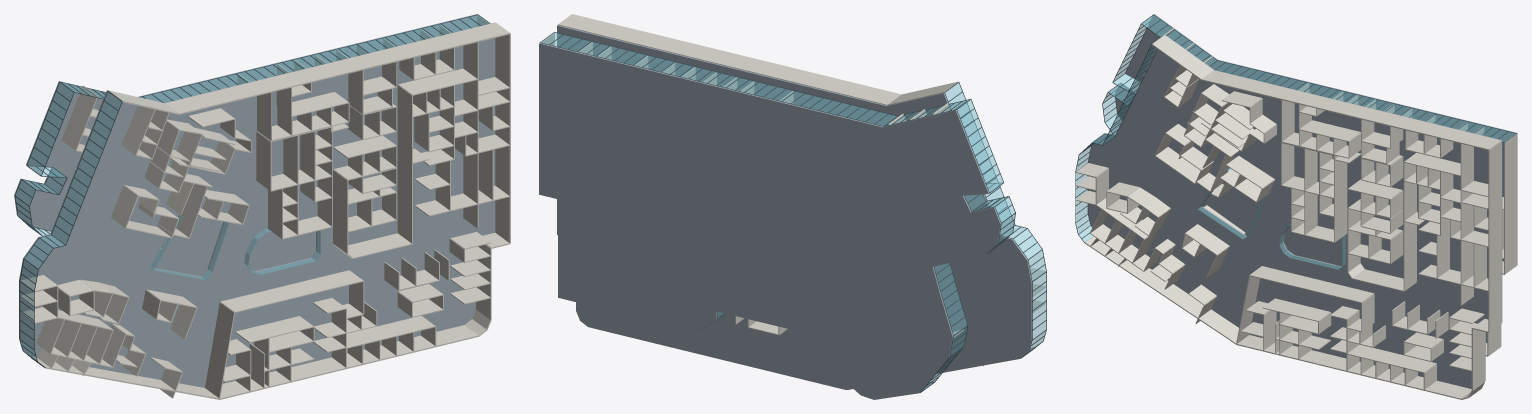
The model's file is Srisawan_L1_L2_Schematic.obj.
3 renders of one model, left to right at view 1: azimuth 30°, elevation 25°; view 2: azimuth 150°, elevation 25°; view 3: azimuth 330°, elevation 25°, orthographic. The views are drawn at different scales.
Visible parts, largest first — view 1: L2_Floor_TWO_VOIDS_1_0_25, L2_Floor_TWO_VOIDS_20_0_63, L2_Facade_01_526, L1_Floor_1_0_1, L1_Facade_01_224, L1_Floor_10_0_11, L2_Floor_TWO_VOIDS_17_0_60, L2_Floor_TWO_VOIDS_16_0_59, L2_Facade_07_532, L2_Facade_02_527, L2_Facade_15_552, L2_Floor_TWO_VOIDS_5_0_31 (+79 smaller); view 2: L1_Floor_1_0_1, L1_Floor_10_0_11, L1_Floor_8_0_9, L1_Floor_6_0_7, L1_Floor_9_0_10, L1_Floor_11_0_12, L2_Floor_TWO_VOIDS_1_0_25, L2_Floor_TWO_VOIDS_20_0_63, L1_Floor_7_0_8, L2_Facade_01_526, L1_Floor_4_2_5, L1_Facade_01_224 (+30 smaller); view 3: L2_Floor_TWO_VOIDS_1_0_25, L2_Floor_TWO_VOIDS_20_0_63, L2_Facade_01_526, L1_Floor_1_0_1, L1_Facade_01_224, L2_Floor_TWO_VOIDS_17_0_60, L2_Facade_02_527, L2_Facade_07_532, L2_Facade_08_533, L1_Floor_10_0_11, L2_Floor_TWO_VOIDS_16_0_59, L1_Facade_02_227 (+55 smaller).
Part boxes in pixels (x1,y1,x2,y2): L2_Floor_TWO_VOIDS_1_0_25: [50, 23, 495, 234]; L2_Floor_TWO_VOIDS_20_0_63: [33, 254, 475, 381]; L2_Facade_01_526: [165, 22, 510, 114]; L1_Floor_1_0_1: [26, 14, 477, 165]; L1_Facade_01_224: [140, 15, 489, 102]; L1_Floor_10_0_11: [151, 229, 315, 275]; L2_Floor_TWO_VOIDS_17_0_60: [19, 223, 495, 348]; L2_Floor_TWO_VOIDS_16_0_59: [19, 214, 495, 338]; L2_Facade_07_532: [220, 325, 478, 399]; L2_Facade_02_527: [495, 33, 510, 243]; L2_Facade_15_552: [52, 92, 121, 244]; L2_Floor_TWO_VOIDS_5_0_31: [19, 234, 166, 280]; L1_Floor_1_0_1: [539, 43, 989, 193]; L1_Floor_10_0_11: [558, 199, 953, 336]; L1_Floor_8_0_9: [539, 145, 985, 266]; L1_Floor_6_0_7: [539, 111, 1000, 243]; L1_Floor_9_0_10: [539, 171, 940, 292]; L1_Floor_11_0_12: [558, 240, 953, 357]; L2_Floor_TWO_VOIDS_1_0_25: [557, 25, 1000, 235]; L2_Floor_TWO_VOIDS_20_0_63: [576, 302, 1019, 376]; L1_Floor_7_0_8: [539, 132, 997, 253]; L2_Facade_01_526: [558, 14, 901, 105]; L1_Floor_4_2_5: [539, 96, 971, 212]; L1_Facade_01_224: [541, 32, 896, 125]; L2_Floor_TWO_VOIDS_1_0_25: [1116, 56, 1502, 229]; L2_Floor_TWO_VOIDS_20_0_63: [1131, 242, 1485, 380]; L2_Facade_01_526: [1201, 70, 1501, 150]; L1_Floor_1_0_1: [1125, 42, 1517, 165]; L1_Facade_01_224: [1210, 61, 1515, 141]; L2_Floor_TWO_VOIDS_17_0_60: [1088, 214, 1502, 322]; L2_Facade_02_527: [1488, 141, 1501, 332]; L2_Facade_07_532: [1236, 335, 1471, 399]; L2_Facade_08_533: [1085, 236, 1238, 344]; L1_Floor_10_0_11: [1202, 194, 1345, 259]; L2_Floor_TWO_VOIDS_16_0_59: [1088, 205, 1502, 313]; L1_Facade_02_227: [1504, 133, 1517, 274].
Size of the model in its own units: 76.58 by 50.04 by 9.31.
